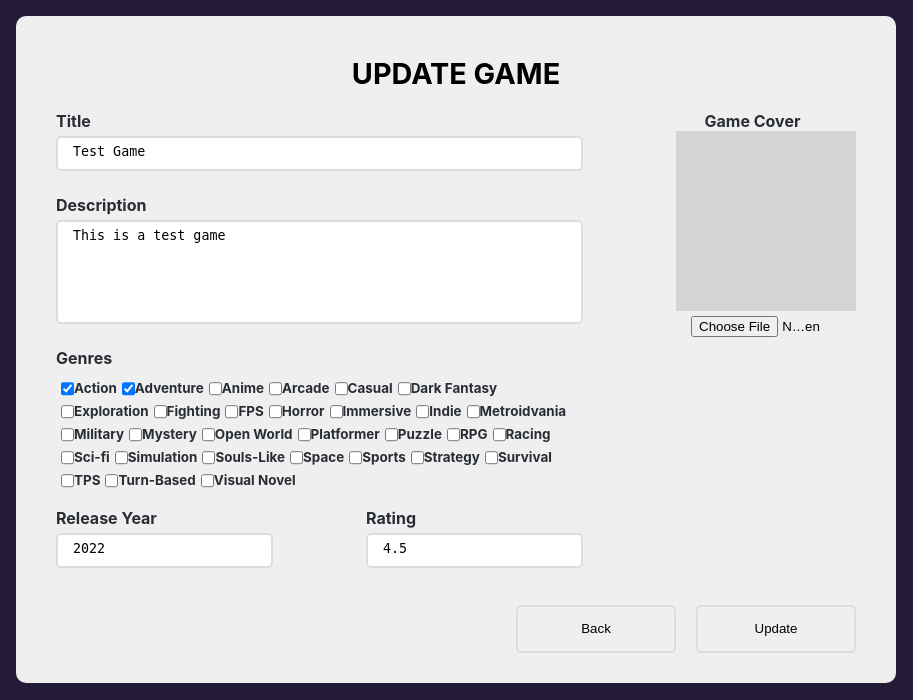
it: UpdateGame component › validateTitle function
Clear the text box labelled "Title" at (320, 153), box 56,136 -> 583,171
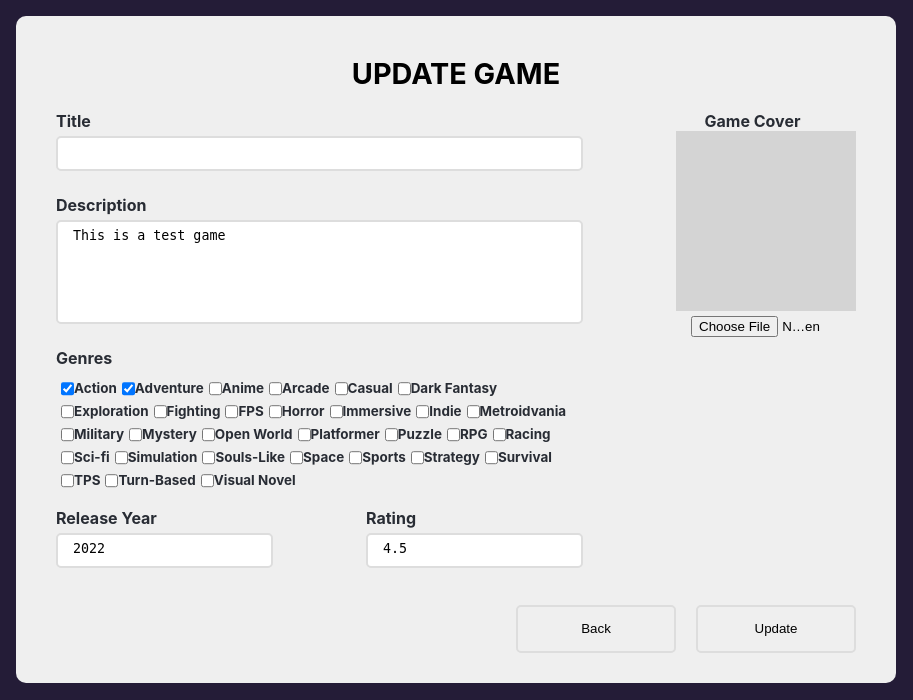
Leave the text box labelled "Title", box 56,136 -> 583,171
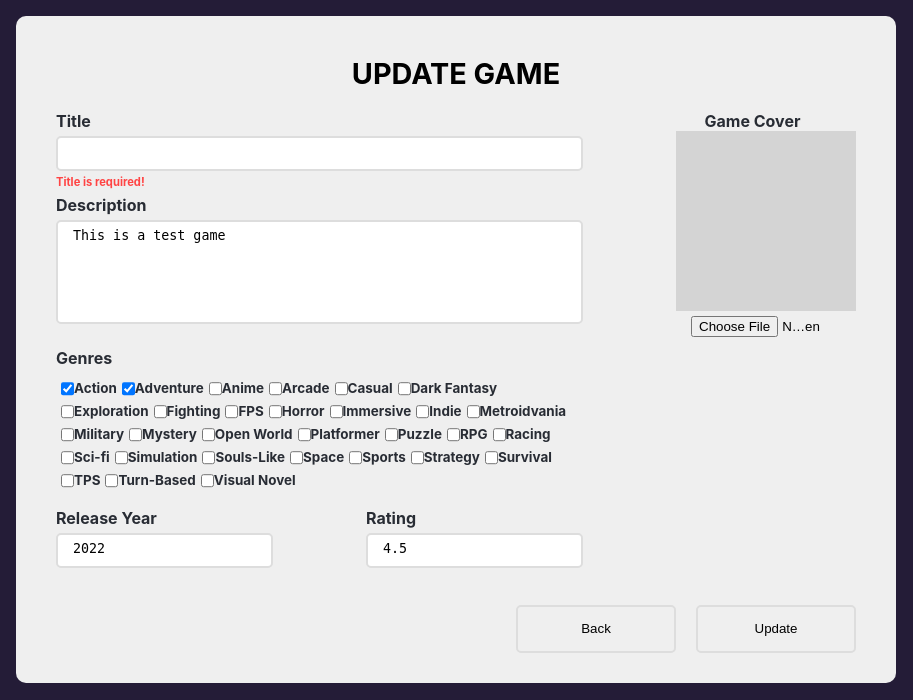
Check: the text "Title is required!" is shown, box 56,175 -> 145,191
